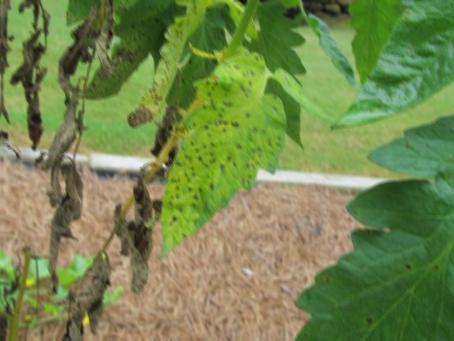Tomato Septoria leaf spot: (152, 38, 287, 259)
